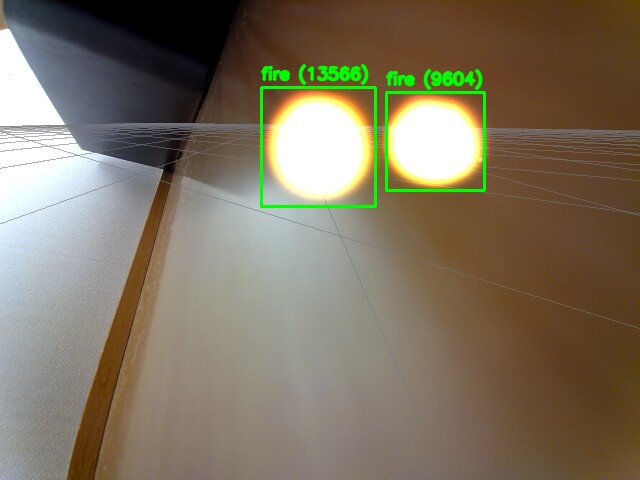fire: (261, 87, 375, 206), (386, 92, 484, 190)
